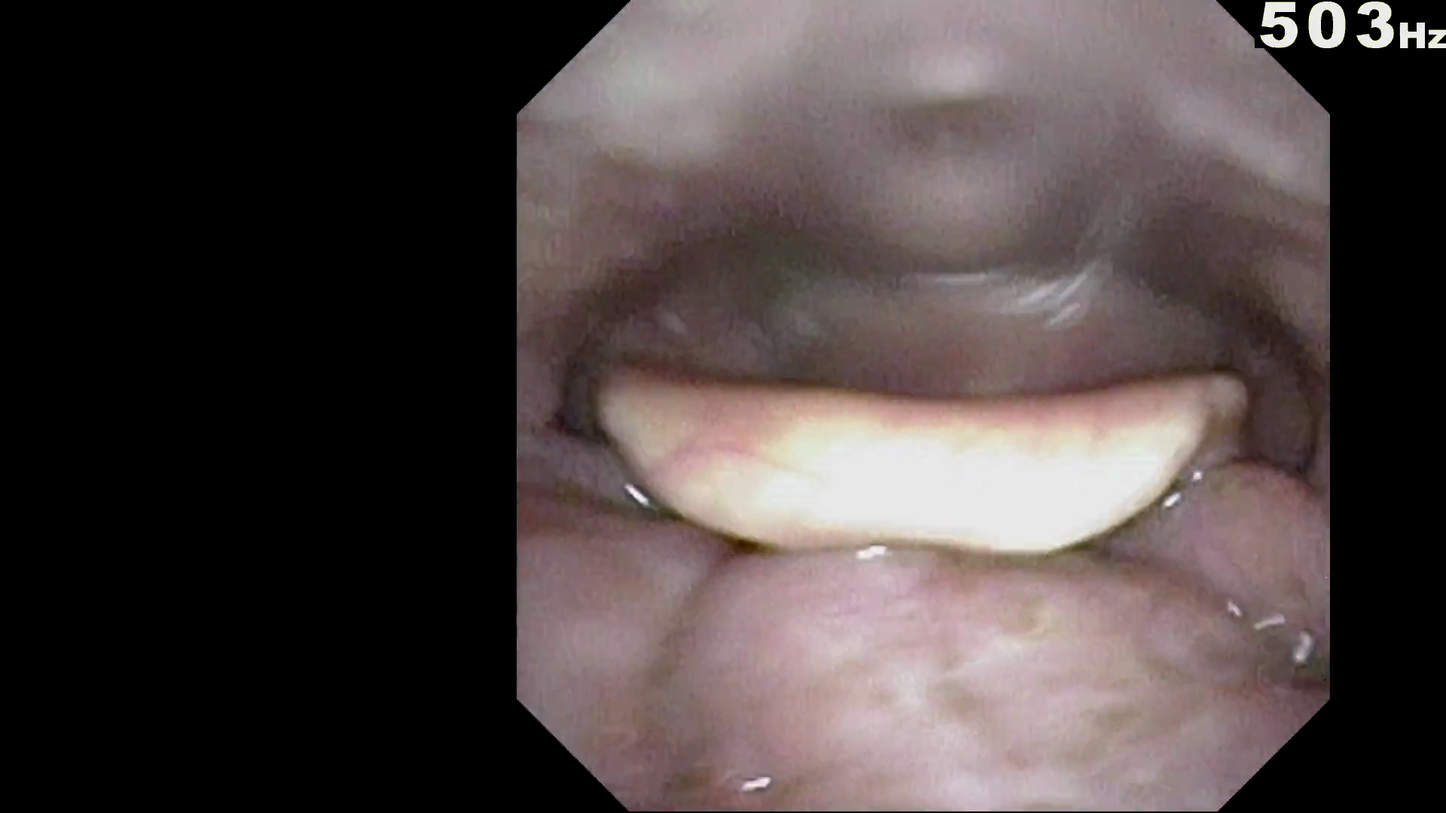epiglottis: (641, 400, 1256, 625)
